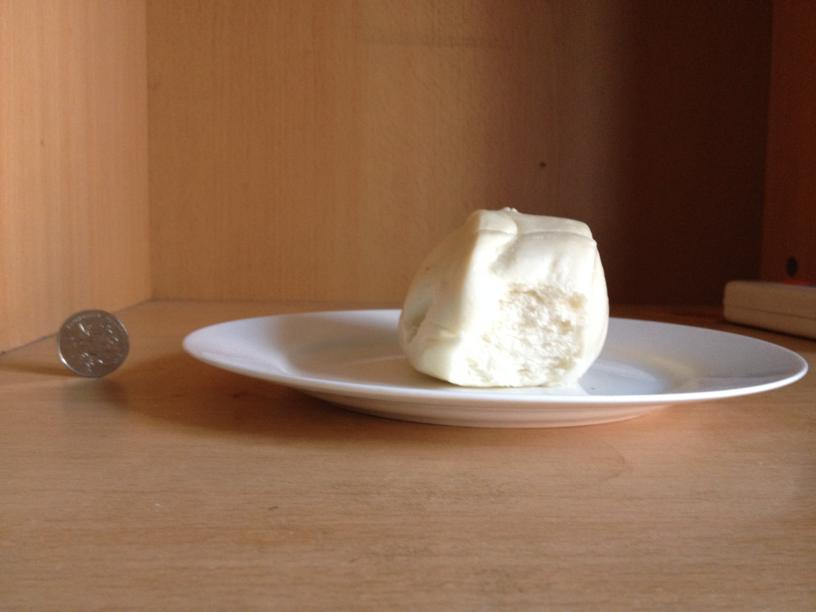bun: (398, 206, 612, 387)
coin: (55, 309, 131, 378)
